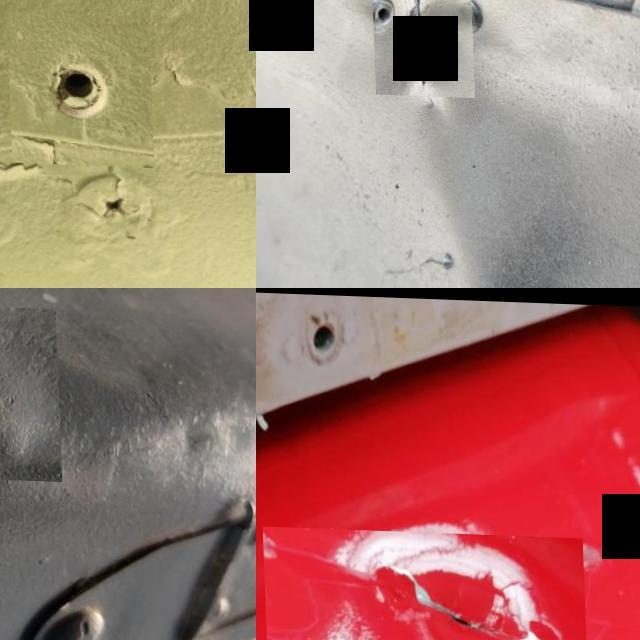Crack: (260, 525, 585, 640), (369, 0, 472, 95)
Dent: (322, 0, 640, 288), (0, 301, 58, 478)
Missing_Fastener: (5, 10, 150, 165)
